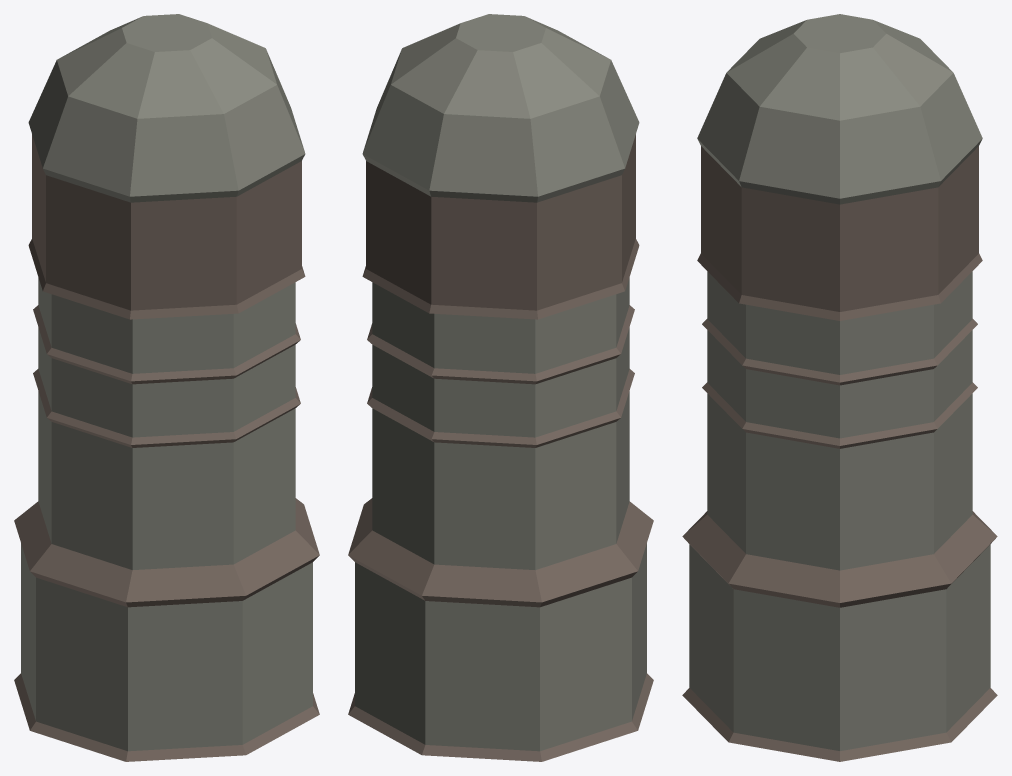
Rendered from LP_PostApoc_MetalTank.fbx.
The picture shows the model from 3 angles, left to right: view 1: azimuth 30°, elevation 25°; view 2: azimuth 150°, elevation 25°; view 3: azimuth 270°, elevation 25°; orthographic projection.
Visible parts, largest first — view 1: MetalTank; view 2: MetalTank; view 3: MetalTank.
Boxes of the visible parts, <box> form: MetalTank: <box>14,14,319,761</box>; MetalTank: <box>348,14,653,761</box>; MetalTank: <box>682,14,997,761</box>.
Bounding box in the file's own units: 134 × 311 × 134.
